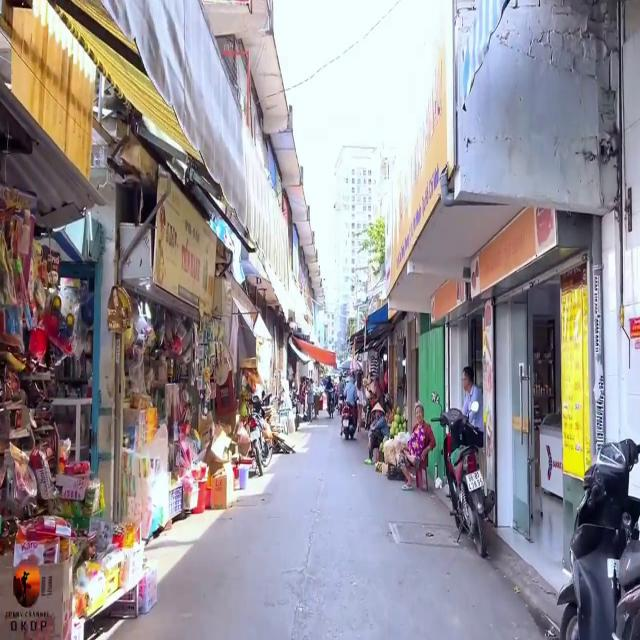bien_trang: (460, 469, 484, 493)
